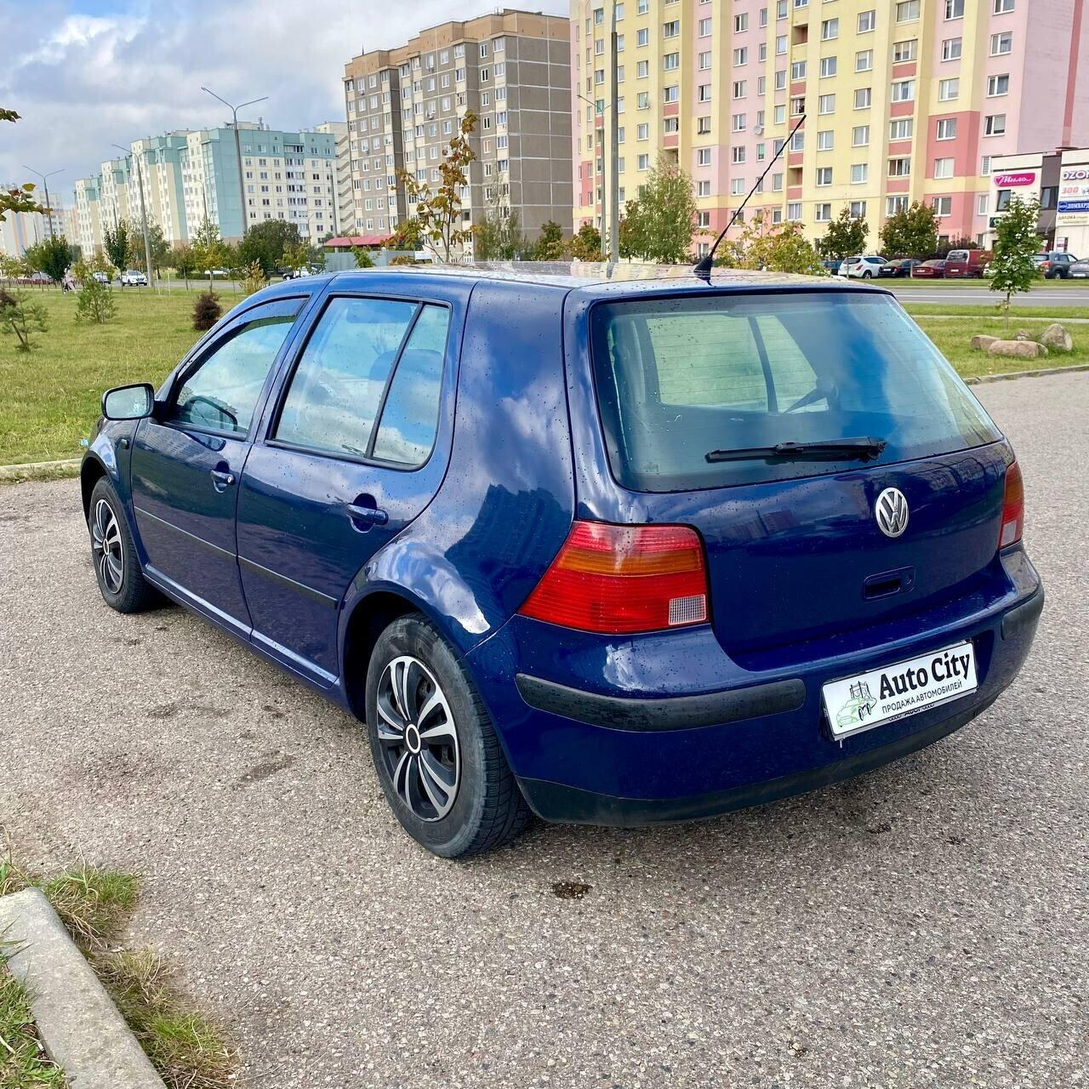Golf_1997-2006: (79, 264, 1031, 856)
